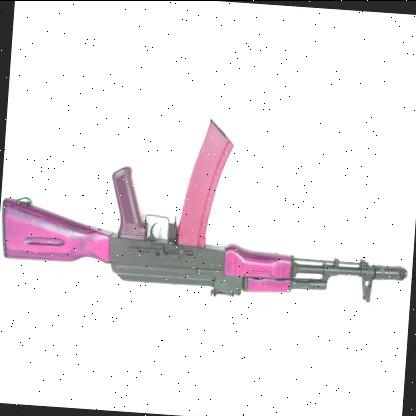rifle: (0, 113, 407, 333)
